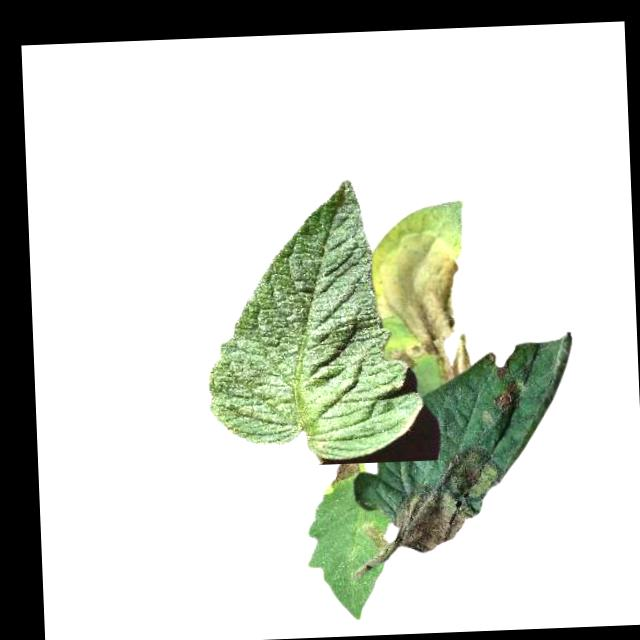Late_blight: (383, 229, 473, 386), (390, 443, 494, 555), (491, 377, 521, 410), (333, 461, 361, 484)
healthy: (201, 176, 426, 466)
